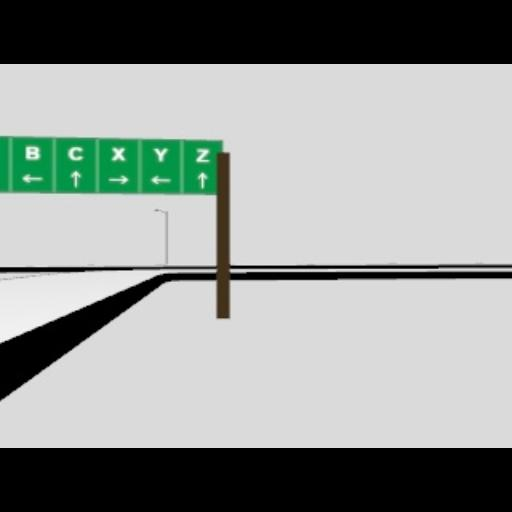B: (24, 146, 40, 160)
C: (65, 146, 83, 162)
Left: (21, 173, 43, 183), (149, 174, 171, 184)
Right: (107, 174, 129, 184)
Straight: (196, 171, 208, 189), (70, 169, 80, 187)
X: (111, 146, 125, 160)
Y: (152, 147, 168, 161)
Z: (195, 147, 209, 161)
